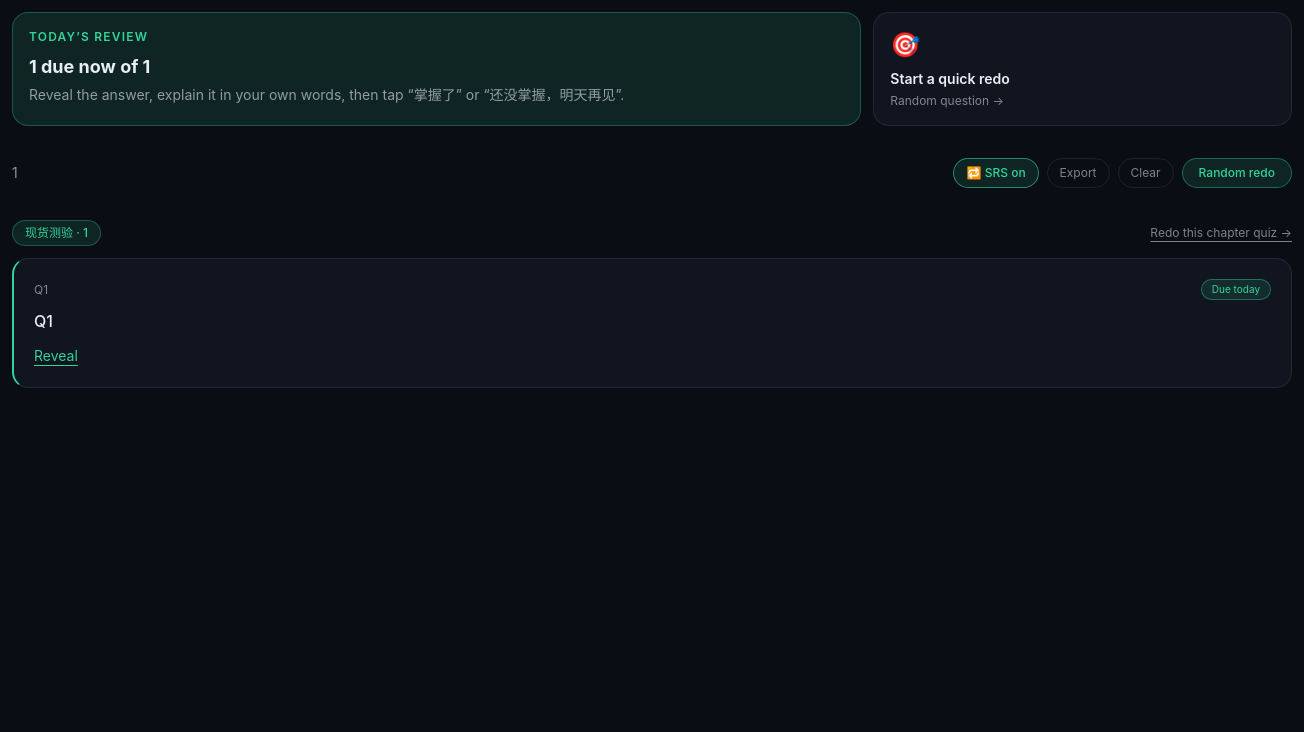
Test: ReviewClient 分组与跳转 › 英文界面的两条错题出口都是英文（R16.51：这两处此前写死中文）
expect the link "Redo this chapter quiz →" is shown: met, box [1150, 225, 1292, 241]
What coordinates should you click on to do the following:
click the button "Reveal"
I would click on:
 (56, 356)
Its box is [34, 346, 78, 366].
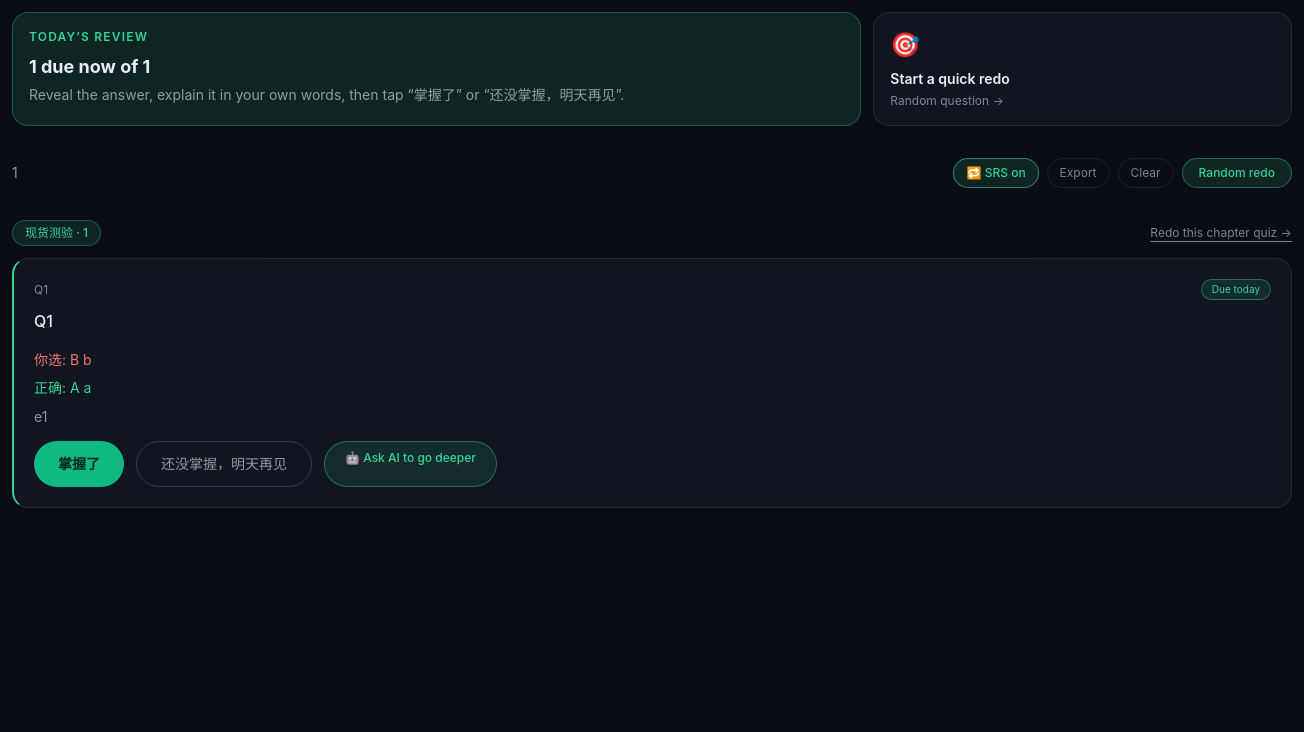
expect the link "🤖 Ask AI to go deeper" is shown: met, box [324, 441, 497, 487]
